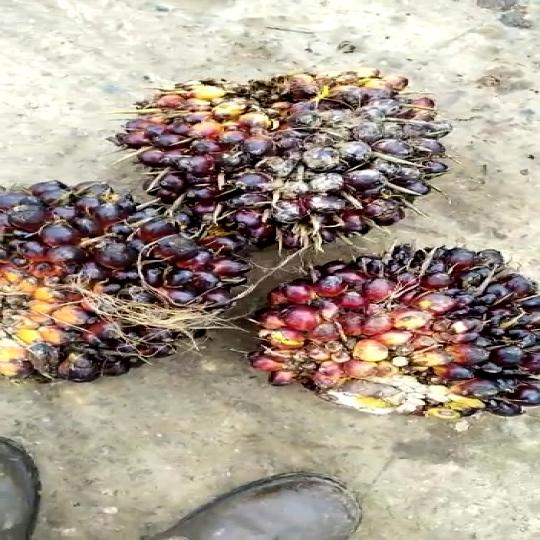kurang masak: (215, 230, 540, 436), (108, 71, 461, 259), (0, 152, 232, 392)
